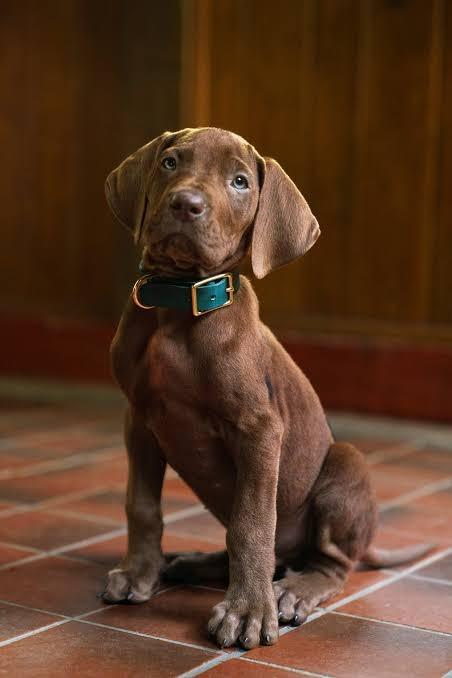puppy-dog: (100, 125, 380, 650)
